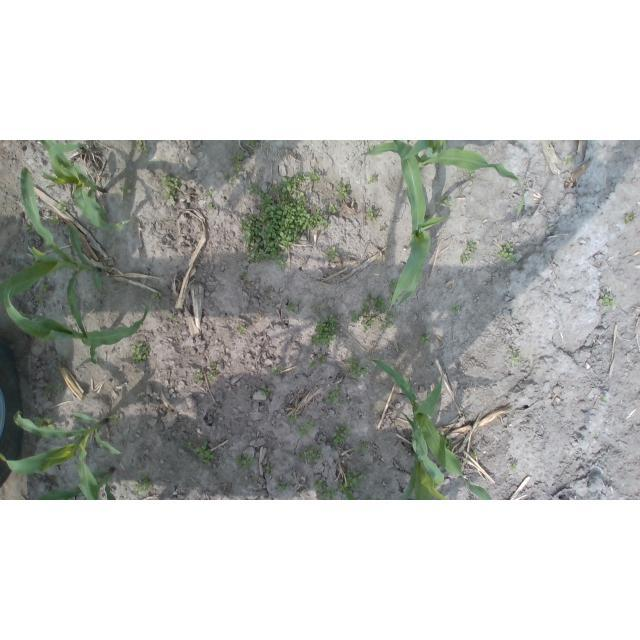Maize: (0, 168, 104, 340), (369, 358, 492, 500), (351, 141, 526, 222), (4, 279, 153, 366), (1, 411, 124, 500), (389, 141, 452, 312), (39, 140, 134, 232), (391, 407, 451, 500), (35, 466, 117, 500)
Weeds: (240, 172, 328, 270), (350, 296, 394, 333), (312, 314, 339, 346), (188, 441, 216, 468), (344, 357, 370, 380), (338, 470, 364, 492), (193, 362, 218, 384), (314, 480, 336, 500), (162, 175, 178, 202), (334, 178, 353, 200), (497, 241, 515, 264), (300, 445, 323, 463), (460, 239, 476, 263), (131, 343, 149, 364), (135, 474, 152, 496), (325, 387, 343, 406), (332, 425, 349, 444), (600, 293, 619, 310), (298, 419, 315, 437), (235, 454, 254, 470), (34, 417, 55, 431), (309, 353, 327, 369), (232, 153, 244, 174), (437, 193, 452, 208), (508, 349, 521, 366), (46, 385, 65, 396), (326, 246, 339, 262), (441, 432, 453, 449), (135, 140, 148, 153), (419, 329, 429, 345), (285, 301, 297, 314), (624, 211, 636, 223), (272, 365, 284, 377), (120, 184, 131, 196), (356, 443, 368, 454), (278, 481, 291, 491), (368, 207, 377, 221), (448, 305, 460, 315), (328, 203, 337, 216), (227, 175, 238, 185), (50, 215, 61, 225), (57, 200, 68, 210), (389, 279, 399, 289), (368, 176, 379, 185), (151, 292, 162, 301), (25, 223, 36, 232), (565, 155, 575, 164), (265, 464, 273, 475), (249, 140, 260, 148), (289, 413, 296, 425), (237, 324, 246, 333), (110, 414, 119, 423), (40, 284, 49, 293), (600, 394, 608, 403), (379, 224, 387, 233), (262, 388, 271, 396), (510, 463, 518, 471), (469, 169, 475, 179), (366, 496, 378, 501), (207, 188, 214, 196), (264, 289, 270, 298), (206, 203, 214, 209)
